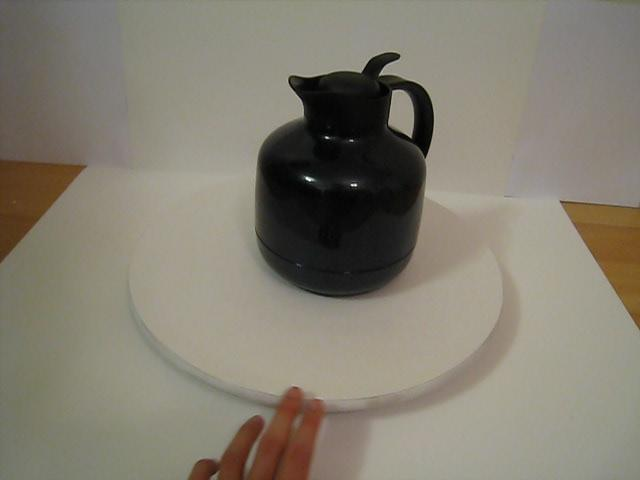pitcher: (258, 47, 440, 316)
